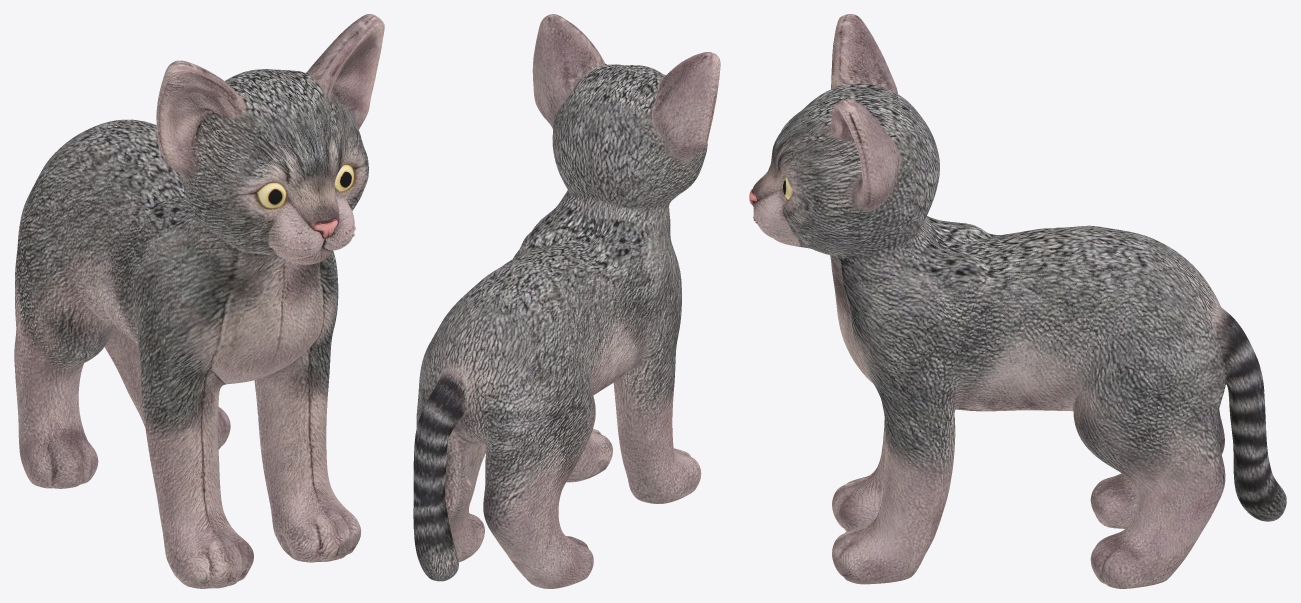
Rendered from meshy-lykoi.glb.
The picture shows the model from 3 angles, left to right: view 1: azimuth 30°, elevation 25°; view 2: azimuth 150°, elevation 25°; view 3: azimuth 270°, elevation 25°; orthographic projection. The views are drawn at different scales.
Parts seen in each view (by area): view 1: Mesh_0; view 2: Mesh_0; view 3: Mesh_0.
Boxes of the visible parts, x1=… form: Mesh_0: x1=14, y1=14, x2=384, y2=588; Mesh_0: x1=413, y1=14, x2=720, y2=588; Mesh_0: x1=749, y1=14, x2=1286, y2=588.
Size of the model in its own units: 0.8231 by 1.9 by 1.89.
Materials: 1 (1 with a texture image).
